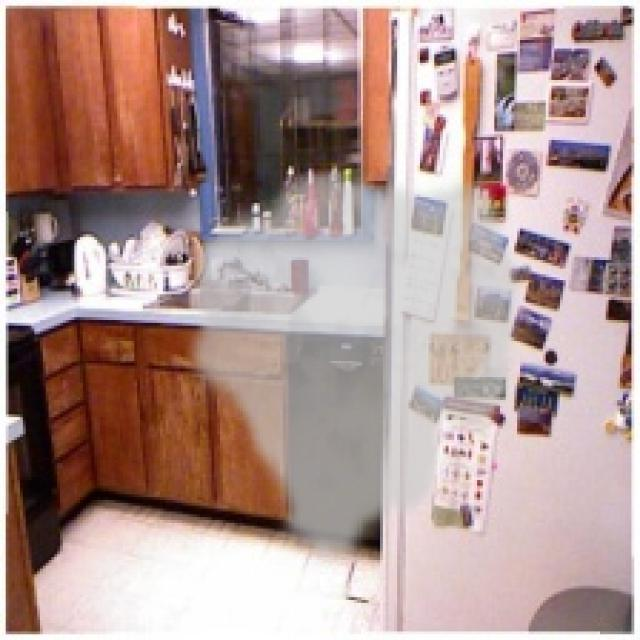Smoke: (177, 162, 526, 574)
